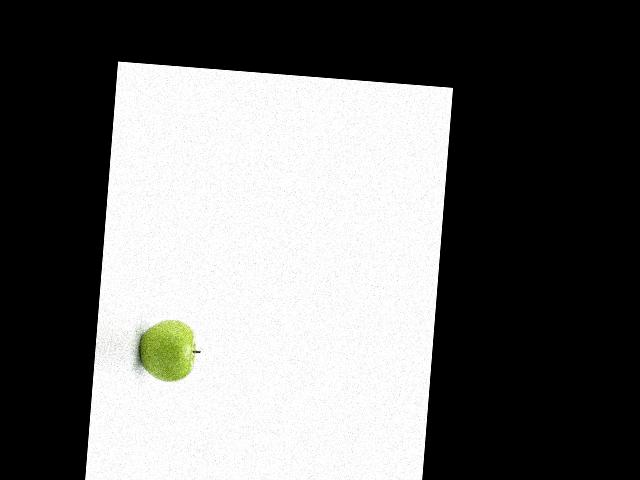apple: (134, 315, 202, 387)
